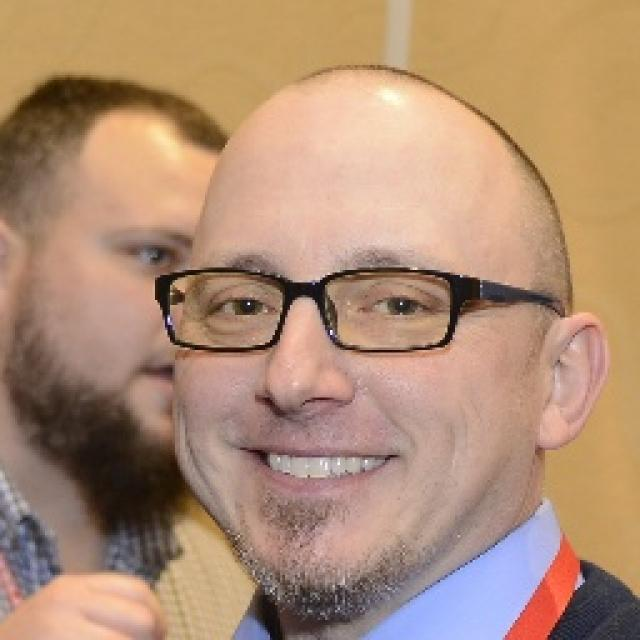earlobe: (536, 313, 610, 451)
